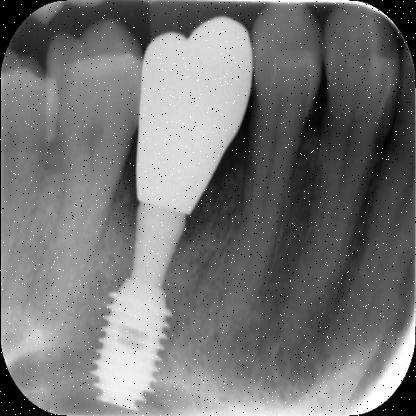Bicon: (84, 261, 180, 416)
